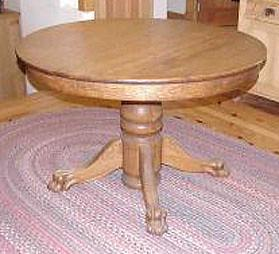table: (11, 18, 271, 239)
